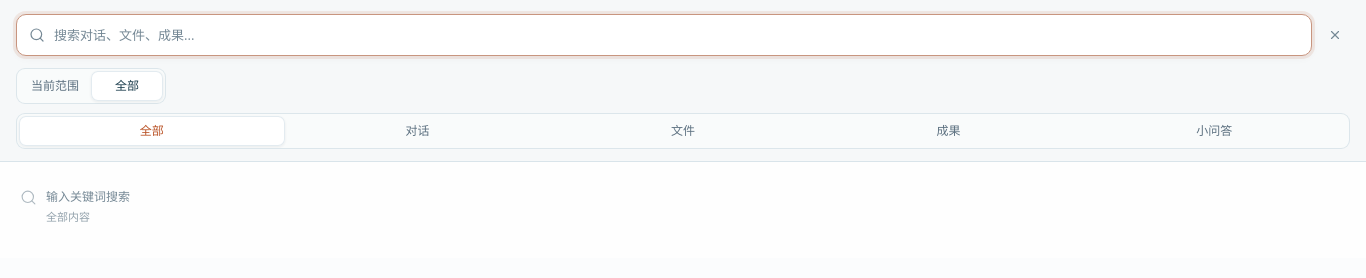
GlobalSearchPage › filters results when typing query
Step 1. Type "对话" into the field with placeholder "搜索对话、文件、成果..." → (678, 35), box top-left (54, 26), bottom-right (1301, 44)
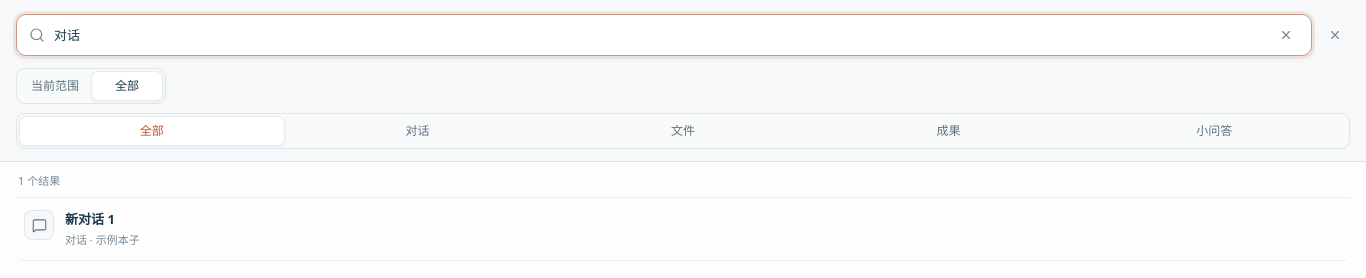
Expected: the text "新对话 1" is shown, top-left (65, 210), bottom-right (115, 228)
